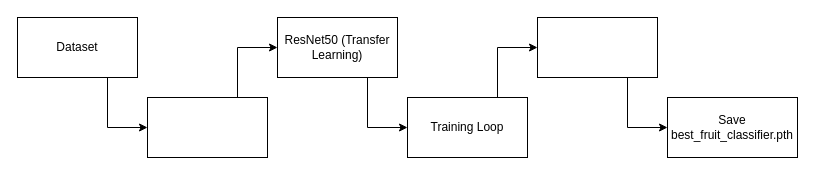
This 815x175 diagram has some shape labels left out. The centre of each missing label's shape, as x and y in pixels:
Data Augmentation: point (207, 127)
Validation: point (597, 47)
